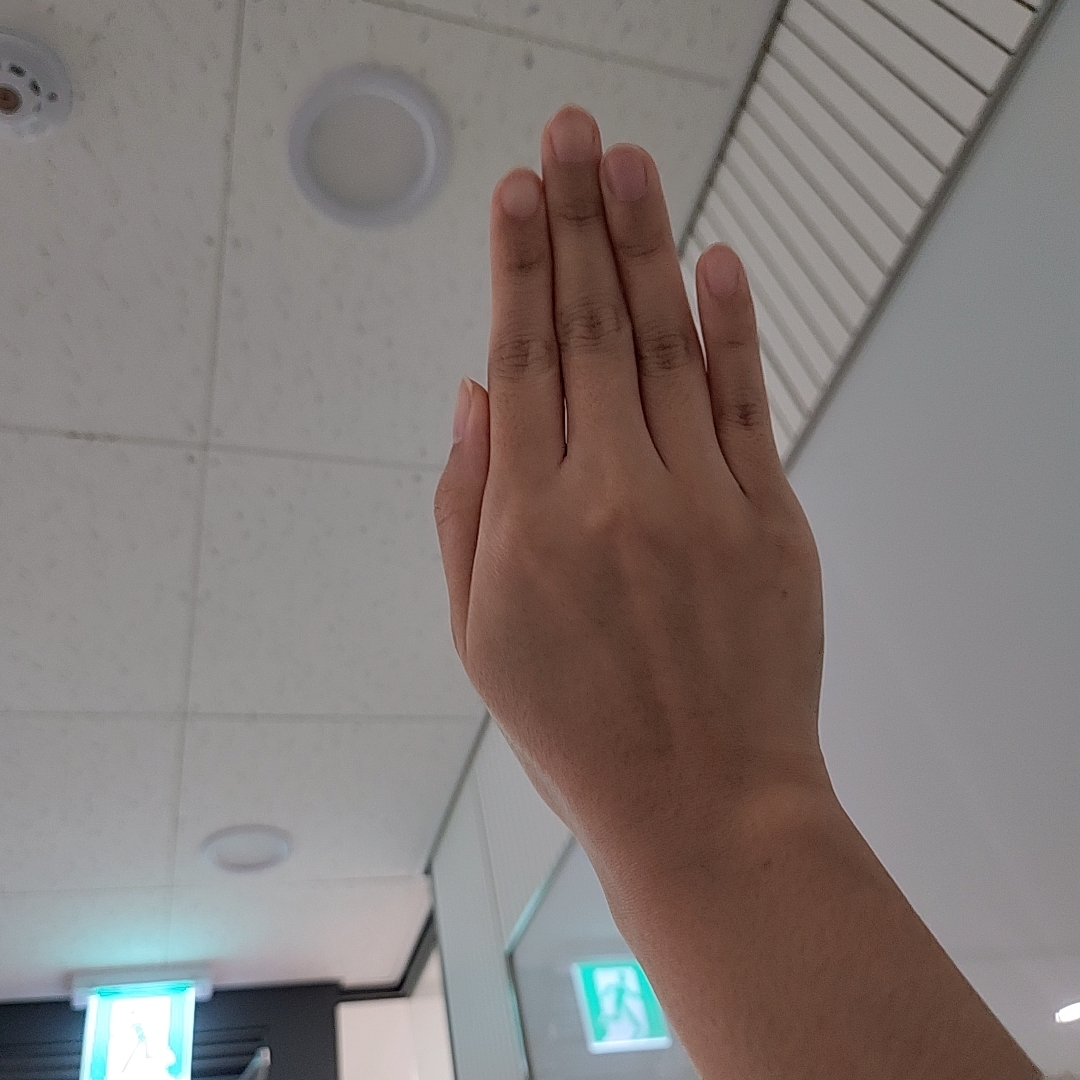me: (432, 105, 824, 818)
